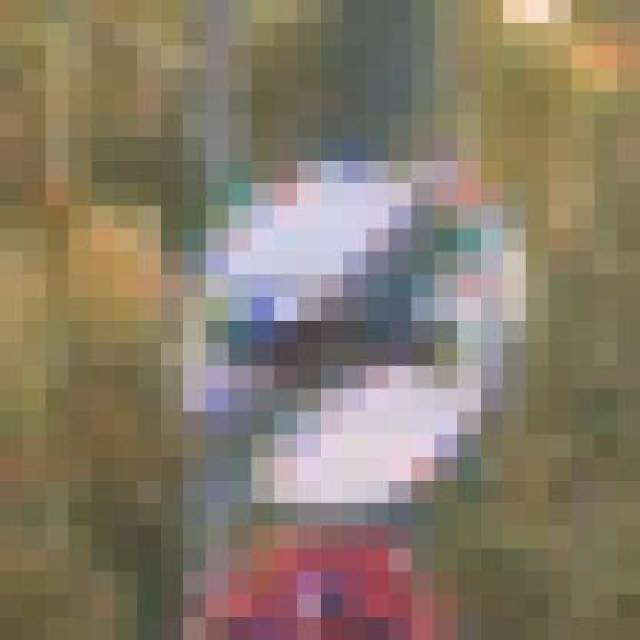No_Over_Taking: (114, 69, 572, 548)
